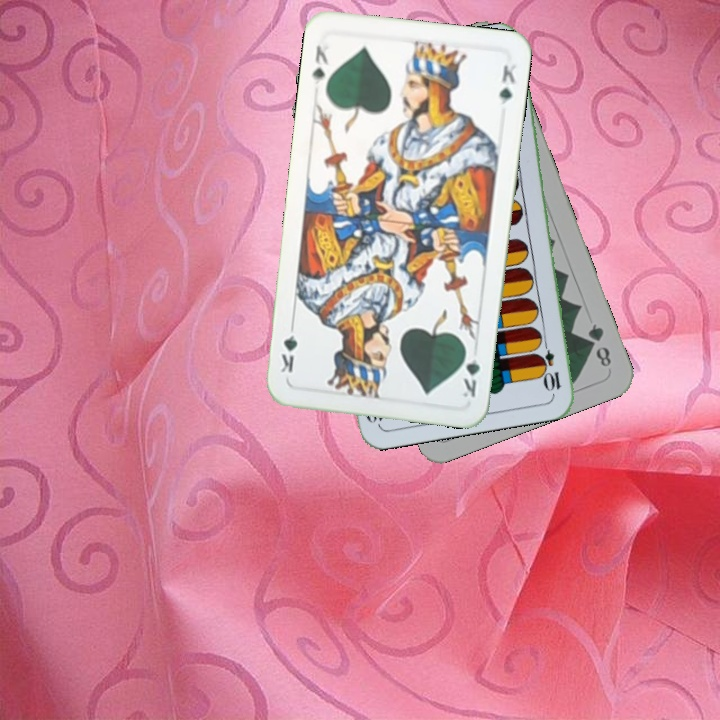E10: (537, 335, 564, 394)
G8: (584, 320, 614, 370)
GK: (458, 343, 483, 400), (308, 41, 331, 88)
